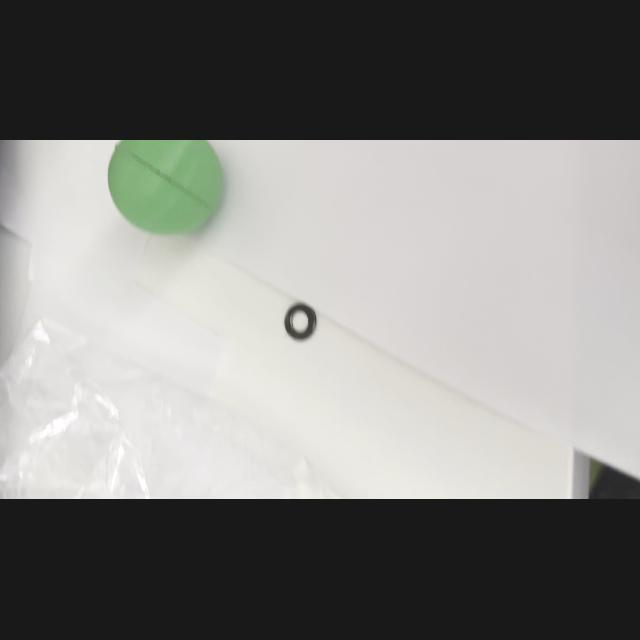objects: (104, 141, 226, 239)
